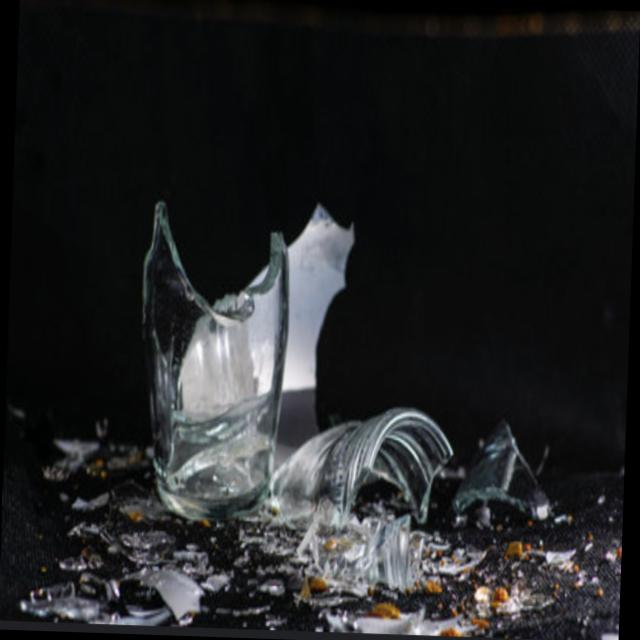PecahanKaca: (132, 197, 294, 523)
